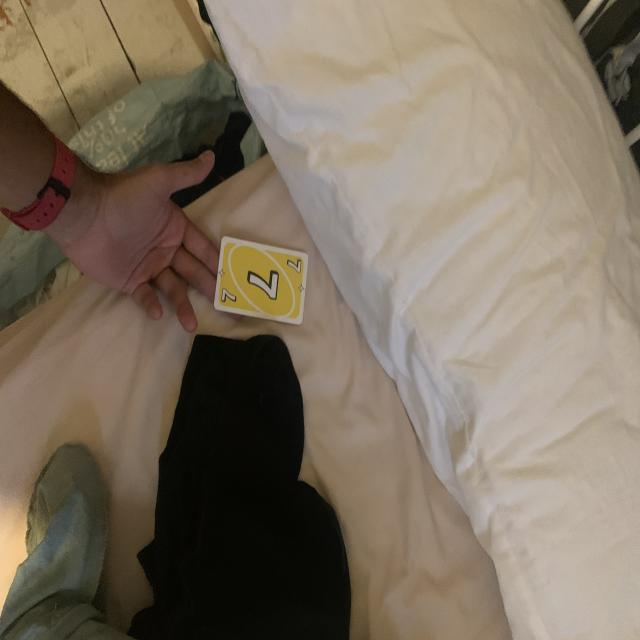lyellow-7: (217, 287, 240, 307)
